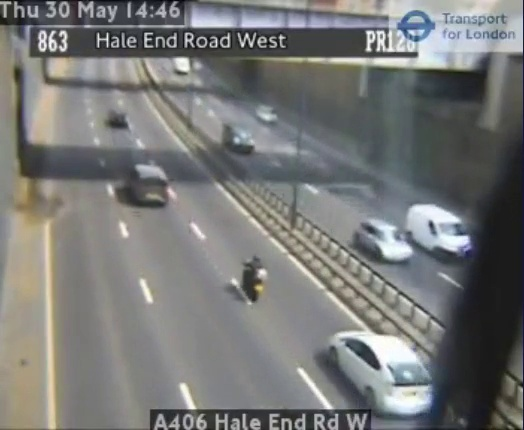car: (328, 331, 435, 416)
motorcycle: (243, 254, 268, 301)
van: (132, 165, 167, 206)
